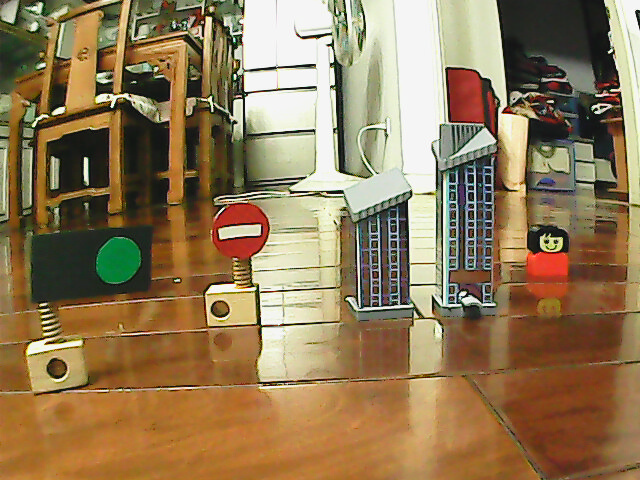Green Traffic Light: (87, 232, 150, 294)
Person: (523, 221, 571, 281)
Stop Sign: (208, 201, 273, 262)
